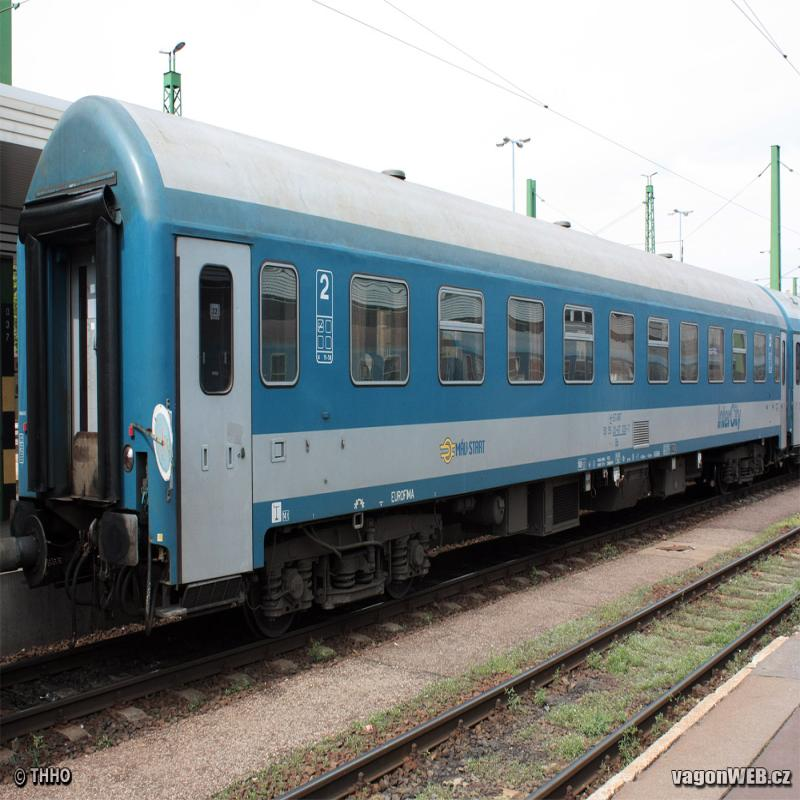train: (12, 94, 790, 689)
